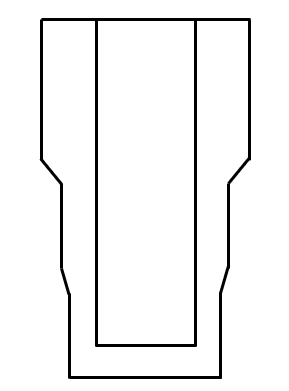nrfp: (66, 8, 223, 387)
